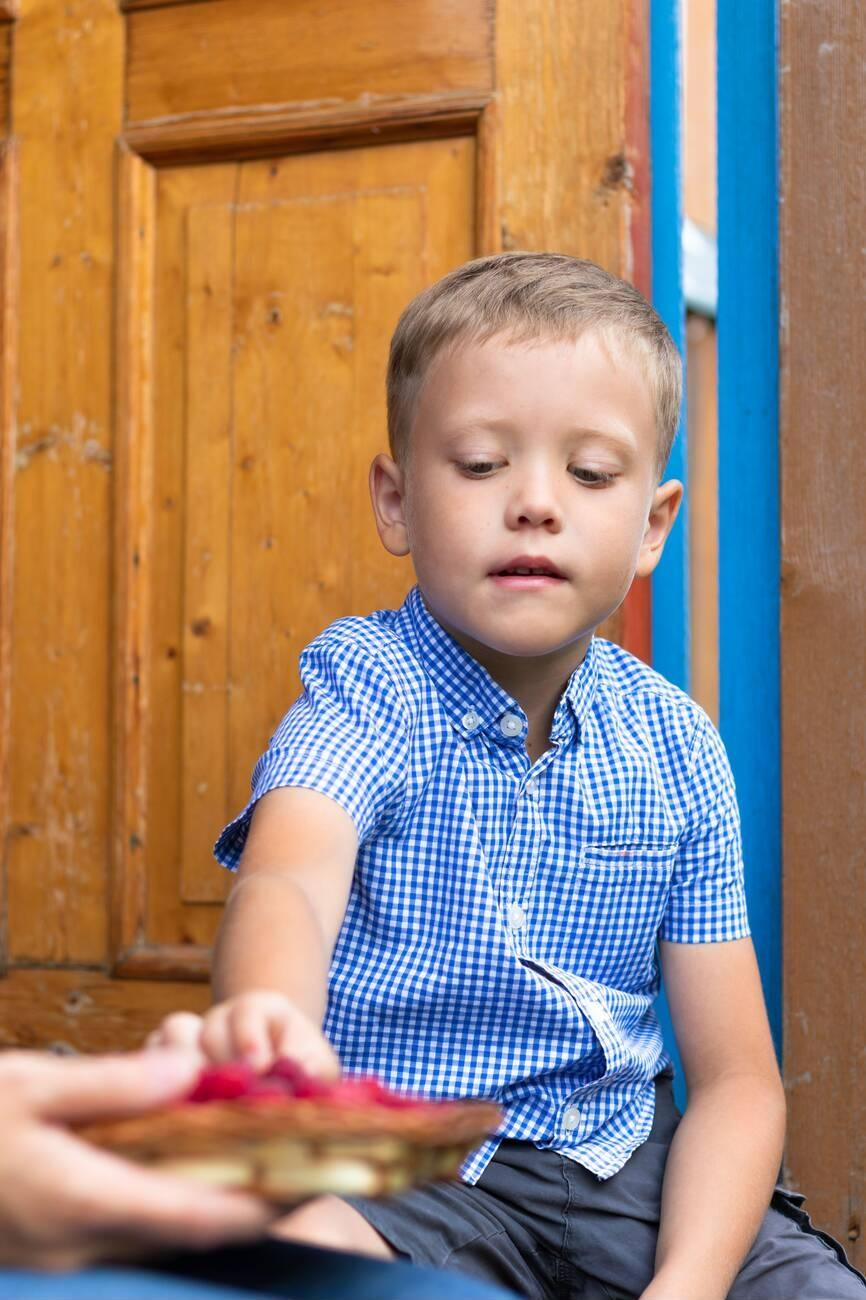Healthy: (418, 321, 658, 666)
